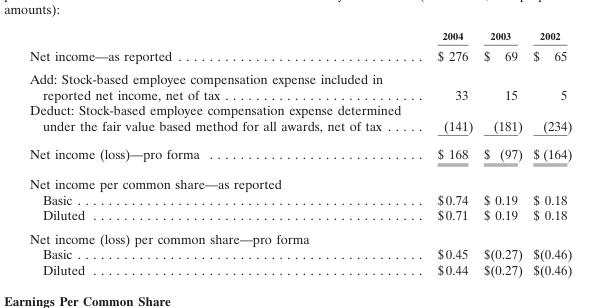table: (28, 29, 571, 277)
table column: (28, 29, 418, 277), (418, 29, 477, 277), (477, 29, 527, 277), (527, 29, 571, 277)
table column header: (28, 29, 571, 44)
table projected row header: (28, 168, 571, 191), (28, 226, 571, 245)
table row: (28, 101, 571, 139), (28, 66, 571, 101), (28, 139, 571, 168), (28, 168, 571, 191), (28, 44, 571, 66), (28, 207, 571, 226), (28, 226, 571, 245), (28, 191, 571, 207), (28, 245, 571, 261), (28, 261, 571, 277), (28, 29, 571, 44)
